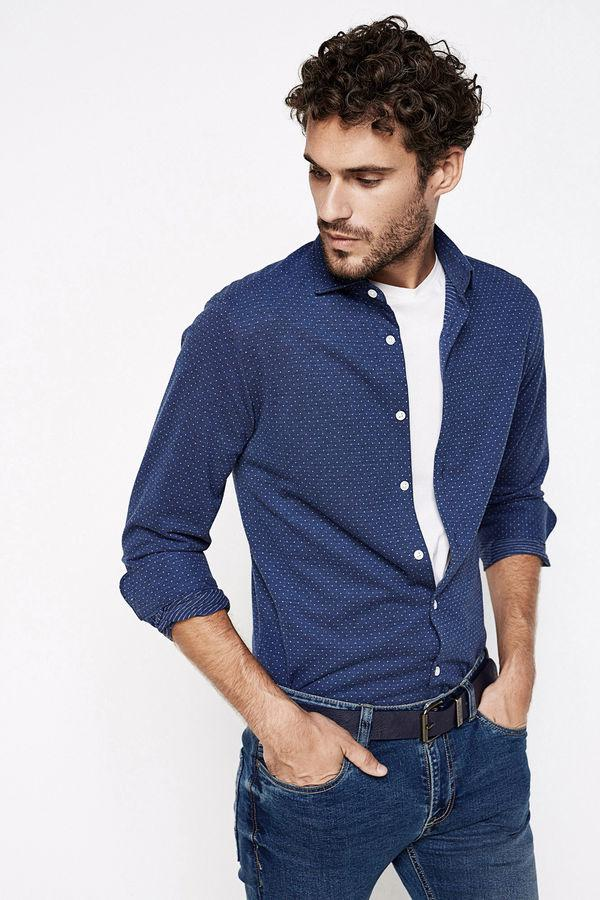teeshirt: (114, 215, 577, 697)
